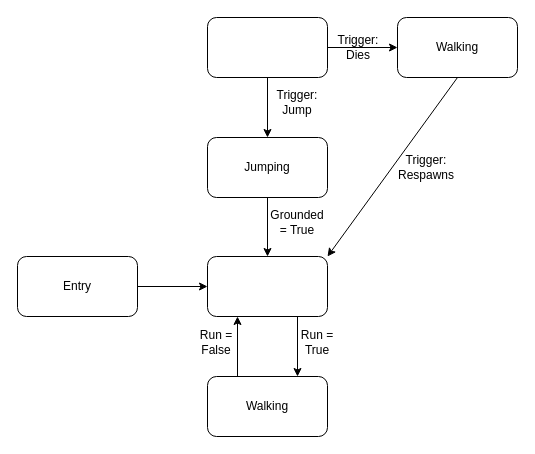
Image size: 535x454. Some labels were removed from this diagram. The centre of each missing label's shape, as x and y in pixels:
"Any State" belongs at point 267,47.
"Idle" belongs at point 267,286.
